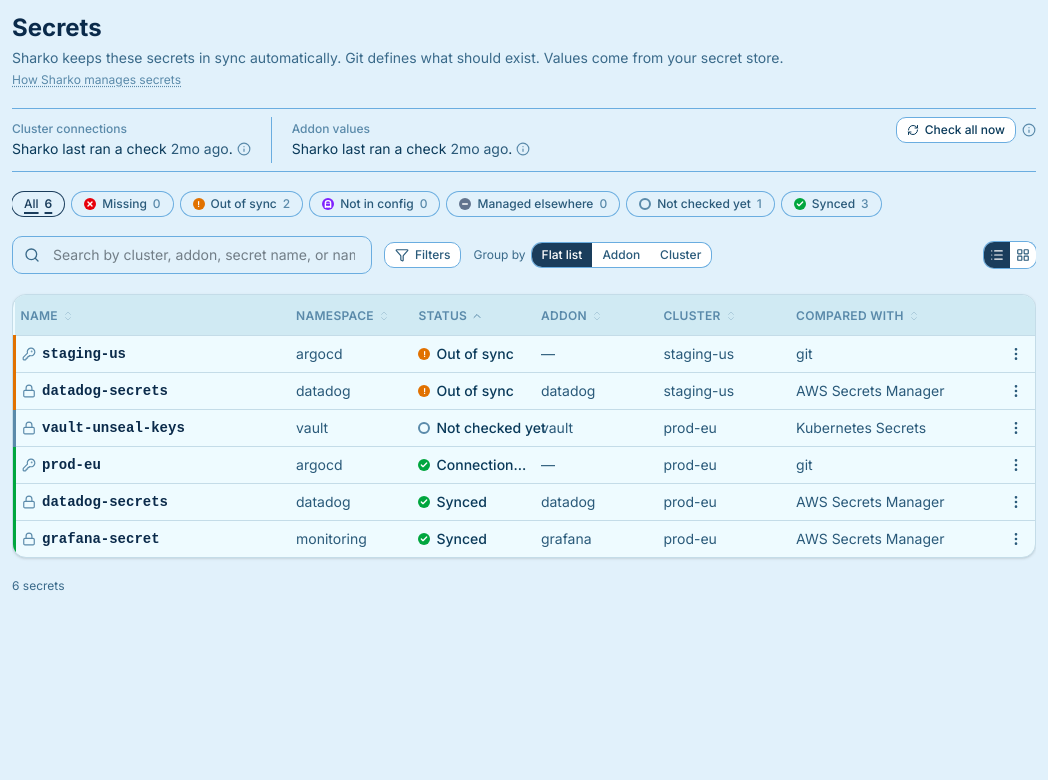
Test: ManagedSecrets — Group by (G2) › grouped by addon gives the addon → cluster → secret shape: the addon is the parent, its clusters are the children
Check: the button with test id "secret-row-values-prod-eu-datadog" is shown, box [14,483,1035,520]
Click the button with test id "group-by-addon" at (621, 255), box [592,243,650,267]
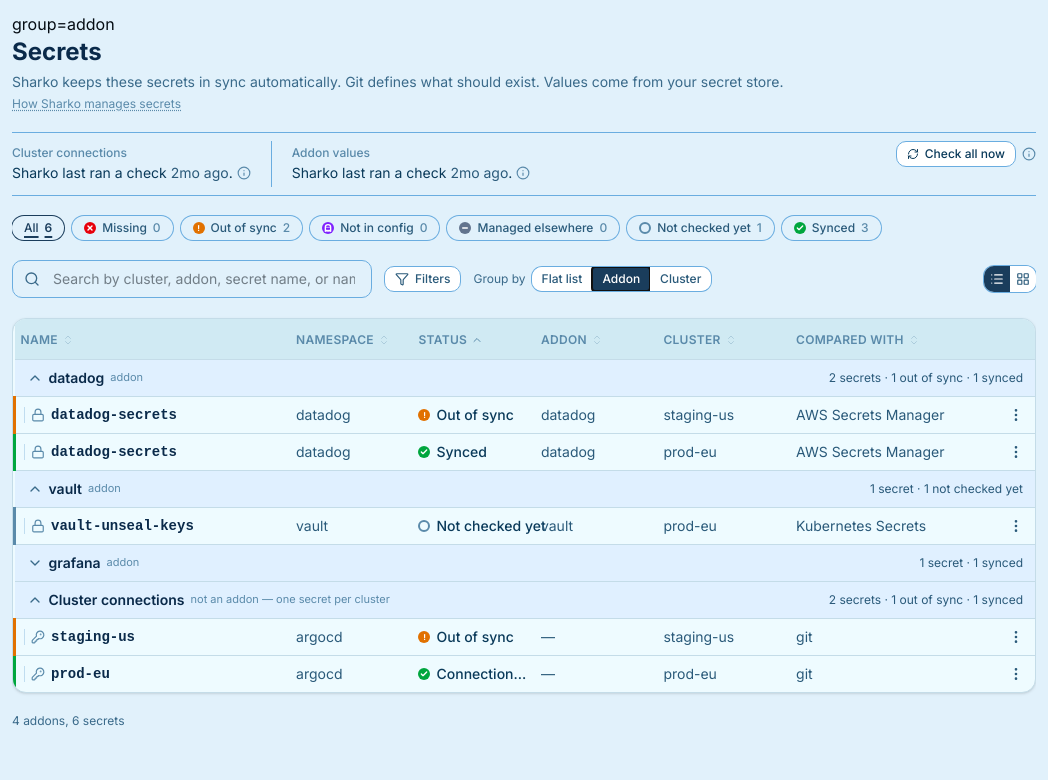
Check: the text "datadog" is shown, box [48,368,104,388]
Check: the button with test id "secret-group-addon-vault" is shown, box [14,470,1035,506]
Check: the button with test id "secret-group-__connections__" is shown, box [14,582,1035,618]
